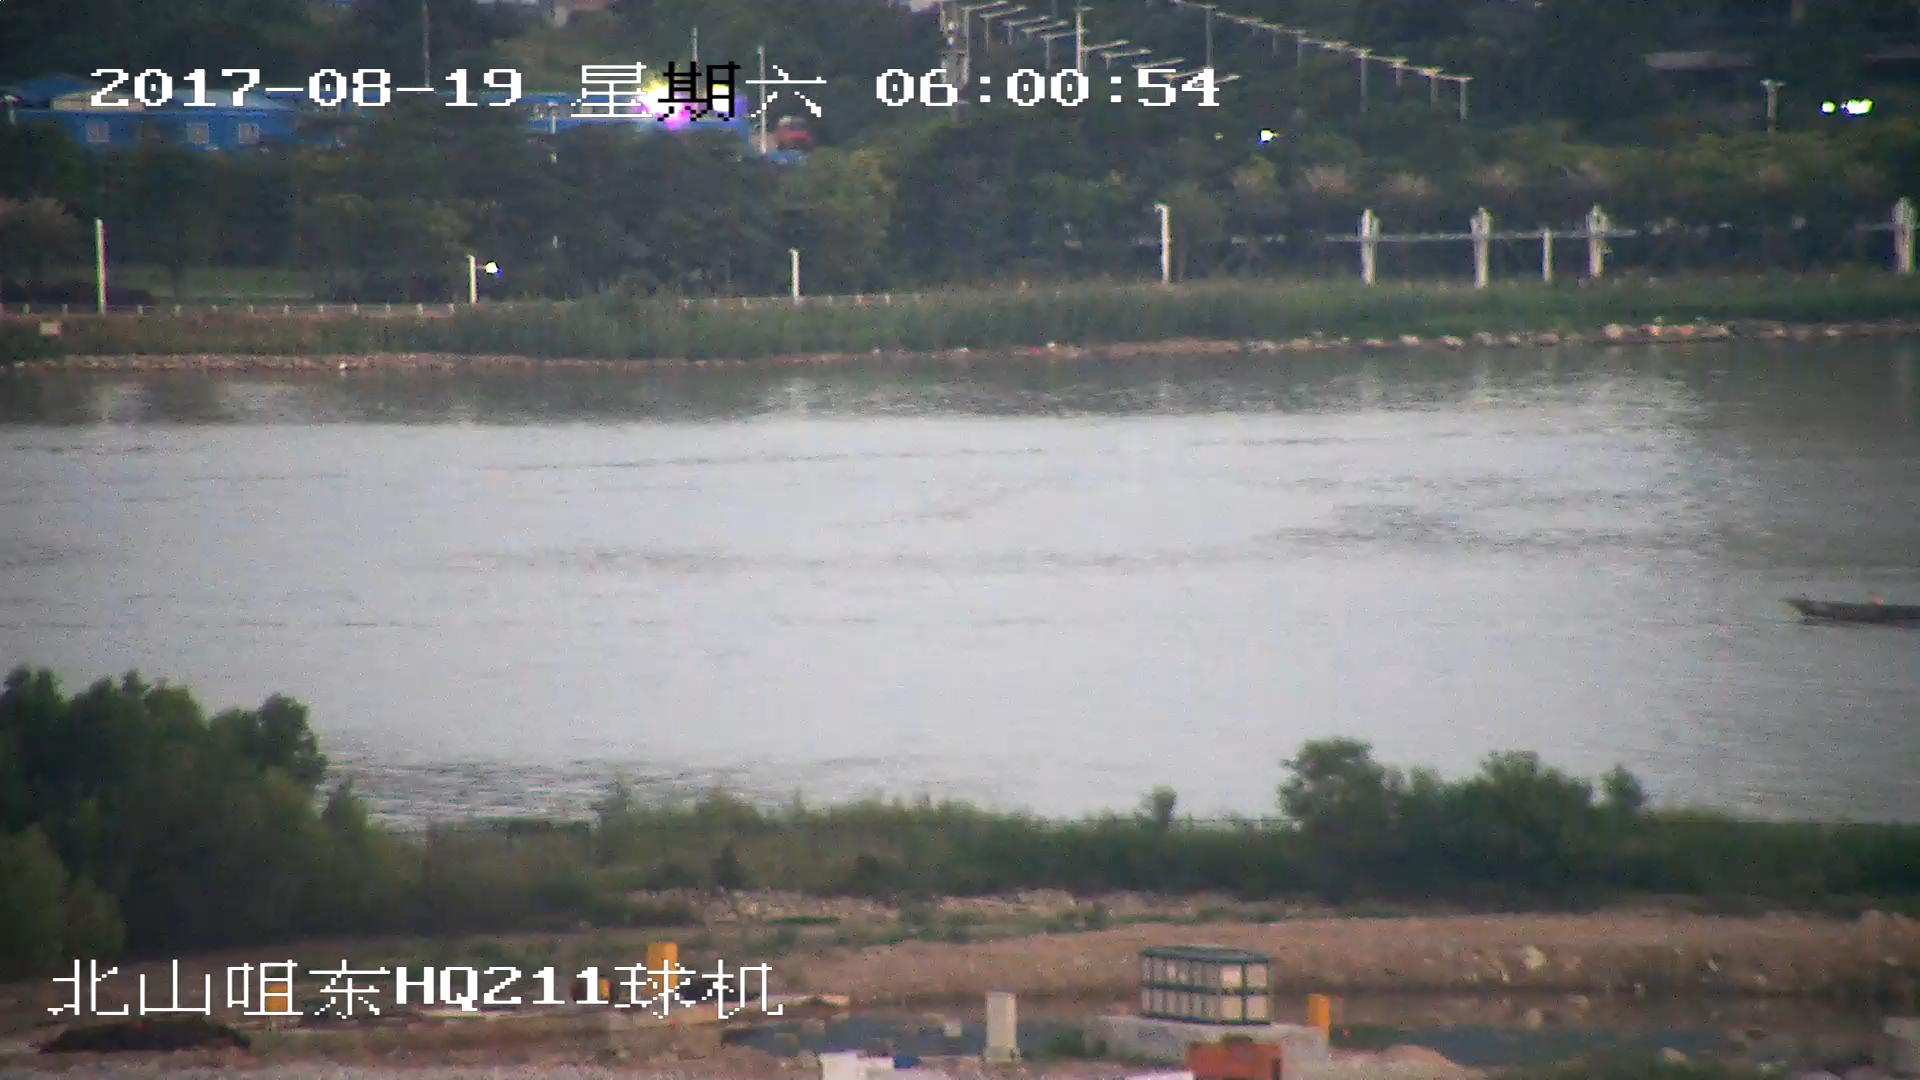fishing boat: (1786, 587, 1920, 631)
